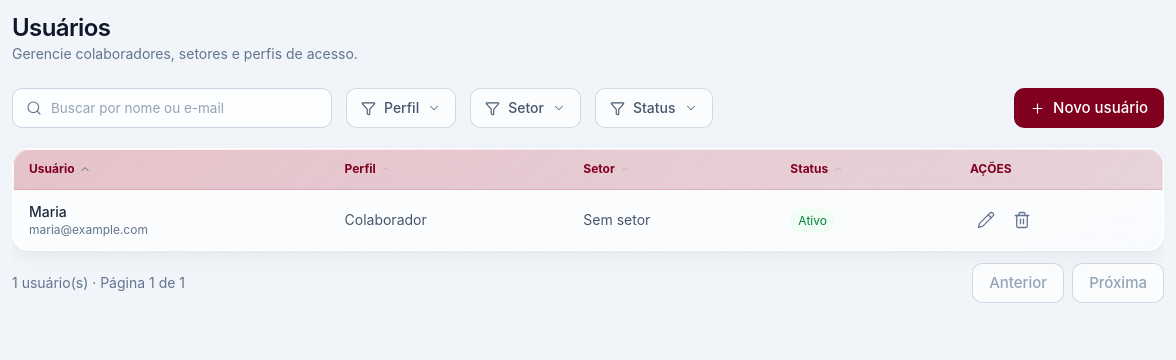
Scenario: USU-01 a USU-04 — gestão exclusiva de superadmin › USU-01: lista e filtra por nome sem apagar dados
Check: the text "Maria" is shown, box [29,203,67,220]
Type "inexistente" into the field labelled "Buscar por nome ou e-mail". click: point(172, 108)
box: [12,88,332,128]
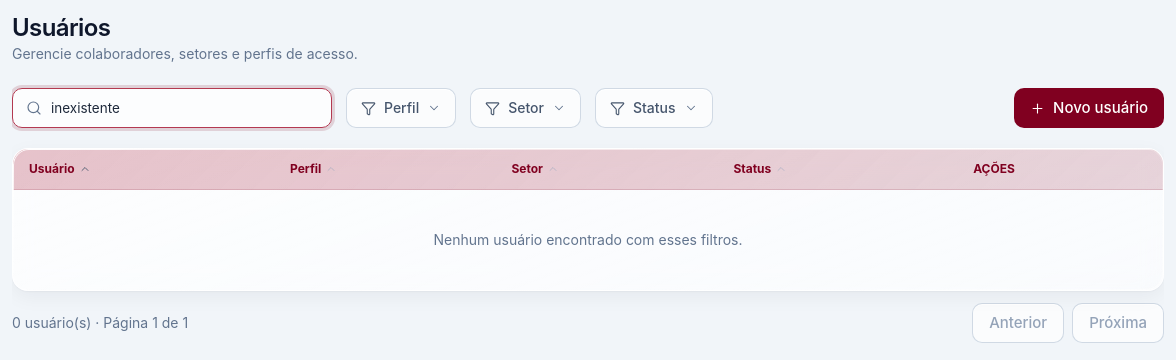
Check: the text "Nenhum usuário encontrado com esses filtros." is shown, box [13,190,1163,290]
Clear the field named "Buscar por nome ou e-mail". click: point(172, 108)
box: [12,88,332,128]
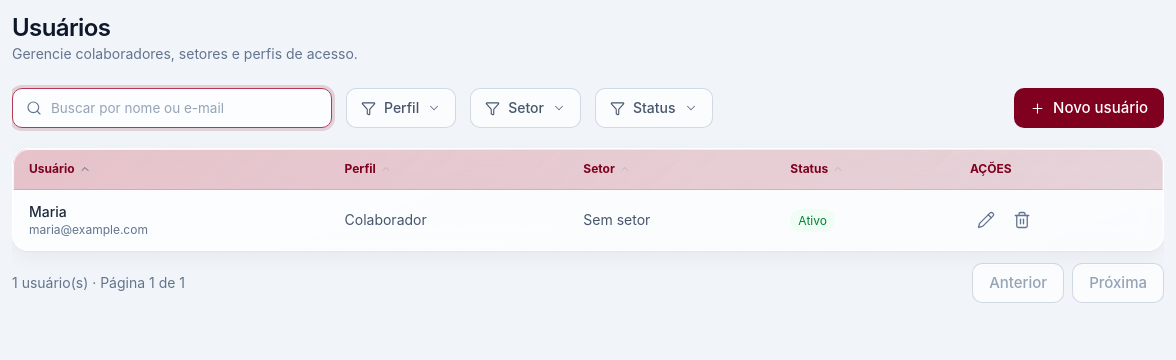
Check: the text "Maria" is shown, box [29,203,67,220]
